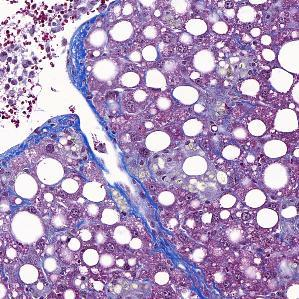fibrosis: (130, 194, 202, 276)
